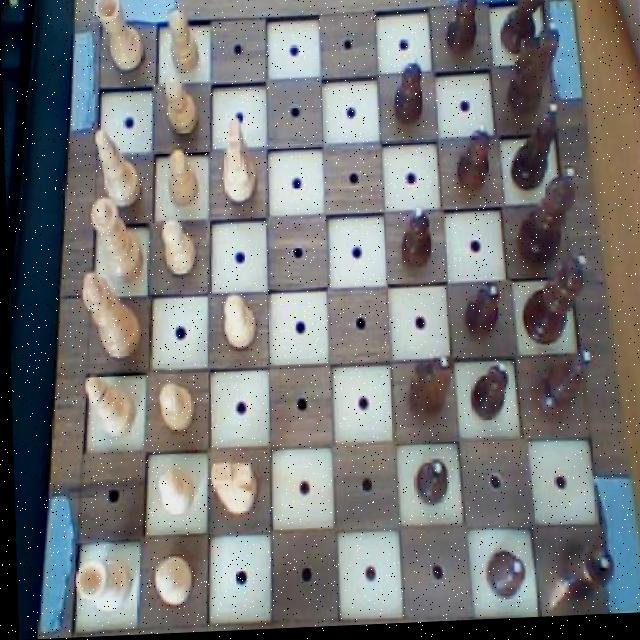bishop: (505, 102, 563, 197), (526, 352, 594, 430)
black-bishop: (517, 255, 590, 351)
black-king: (499, 25, 563, 123), (401, 355, 458, 430)
black-knight: (389, 53, 427, 130), (457, 280, 502, 344), (452, 124, 492, 195), (478, 548, 525, 606), (466, 364, 509, 427), (397, 207, 436, 276), (443, 0, 482, 65), (411, 457, 449, 508)
black-pawn: (508, 168, 578, 273)
black-queen: (553, 542, 613, 605), (496, 0, 551, 63)
black-rook: (88, 128, 145, 217), (79, 368, 136, 444)
white-bishop: (79, 269, 142, 367)
white-king: (214, 117, 261, 212), (205, 455, 260, 525)
white-knight: (152, 216, 199, 289), (159, 144, 204, 215), (166, 5, 205, 79), (160, 75, 201, 145), (215, 293, 259, 356), (154, 378, 197, 441), (147, 554, 193, 611), (150, 466, 195, 523)
white-pawn: (84, 192, 145, 289)
white-queen: (93, 0, 150, 80), (67, 553, 133, 618)
